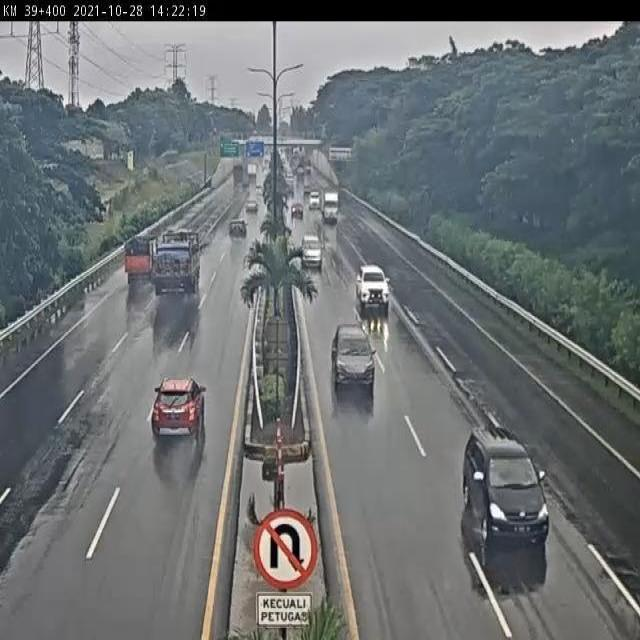Car: (462, 425, 550, 548), (151, 376, 206, 439), (331, 327, 377, 392), (356, 266, 390, 316), (227, 219, 248, 240), (291, 203, 304, 221), (244, 200, 258, 212)
Truck: (147, 230, 205, 296), (122, 233, 158, 285), (321, 189, 340, 226), (247, 161, 258, 180), (233, 165, 244, 184)
Van: (300, 235, 324, 274)
